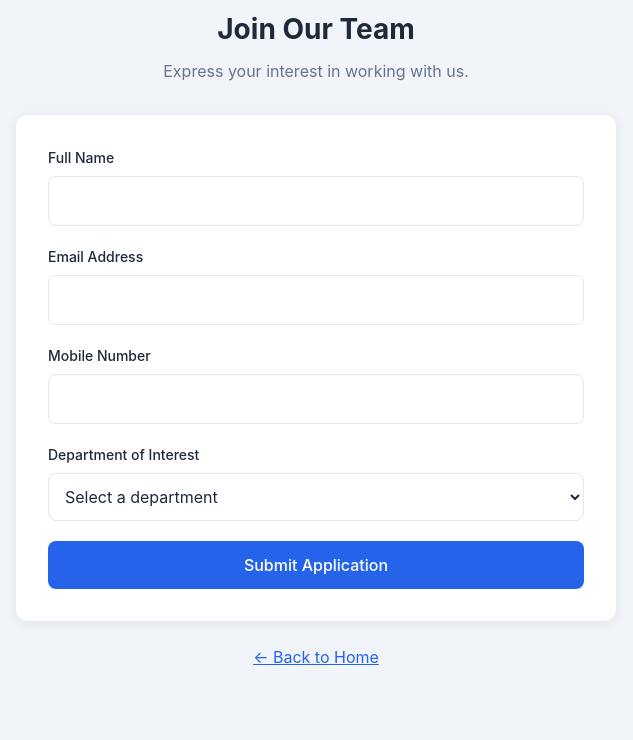
Test: Apply › persists a complete normalized record, clears fields, and removes old validation errors
The image size is (633, 740).
Click the button "Submit Application" at {"x": 316, "y": 565}, box left=48, top=541, right=584, bottom=589
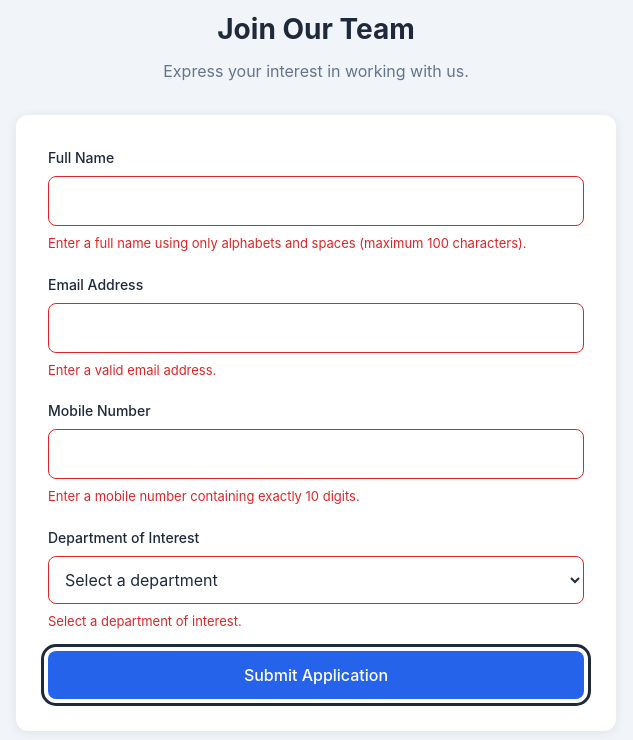
Type " Alice Smith " into the field labelled "Full Name" at {"x": 316, "y": 201}, box left=48, top=176, right=584, bottom=226
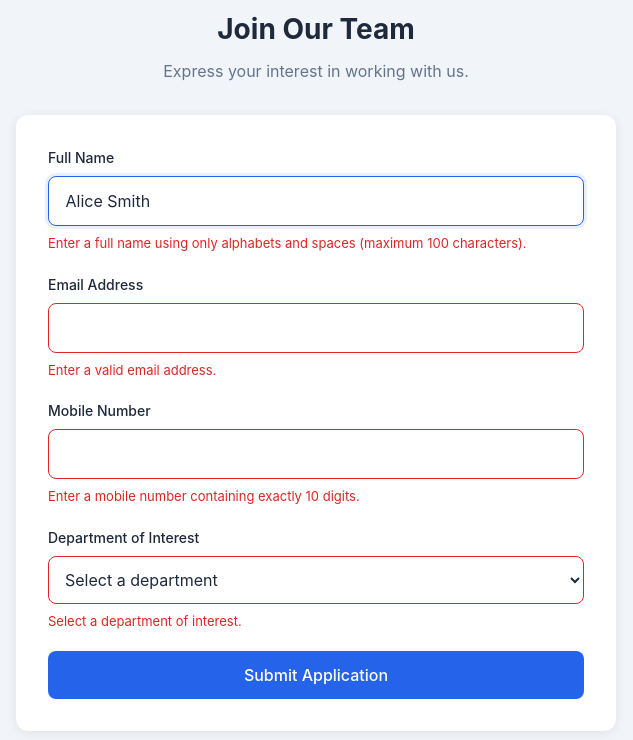
Type " Alice@Example.com " into the field labelled "Email Address" at {"x": 316, "y": 328}, box left=48, top=302, right=584, bottom=352
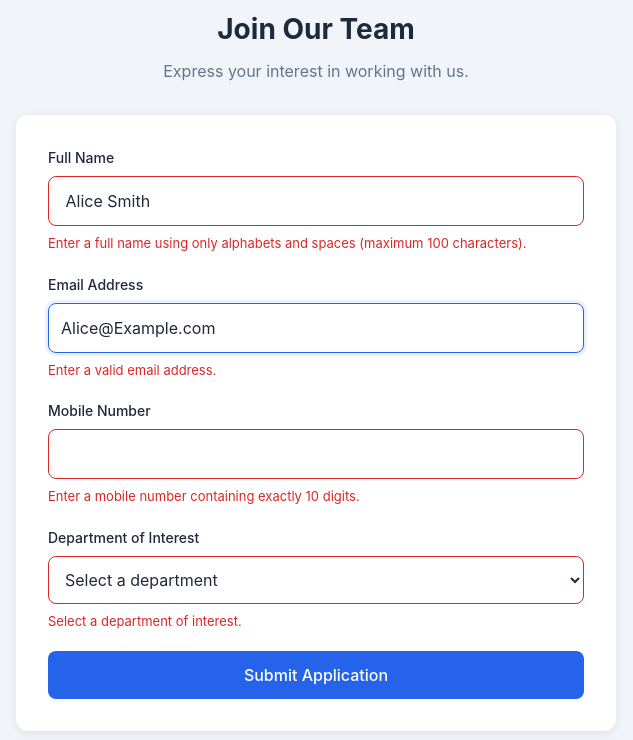
Type "0123456789" into the field labelled "Mobile Number" at {"x": 316, "y": 454}, box left=48, top=429, right=584, bottom=479
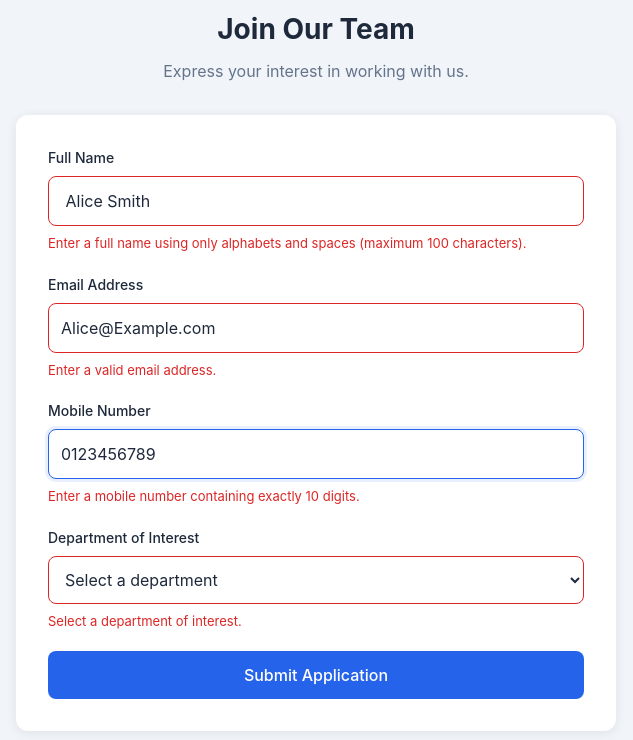
Select "Engineering" in the dropdown labelled "Department of Interest" at {"x": 316, "y": 580}, box left=48, top=556, right=584, bottom=604
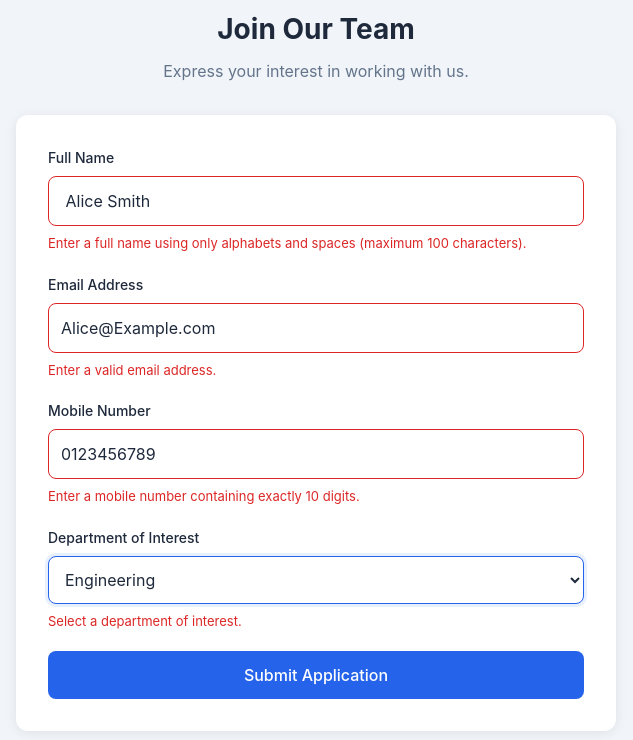
Click the button "Submit Application" at {"x": 316, "y": 675}, box left=48, top=651, right=584, bottom=699
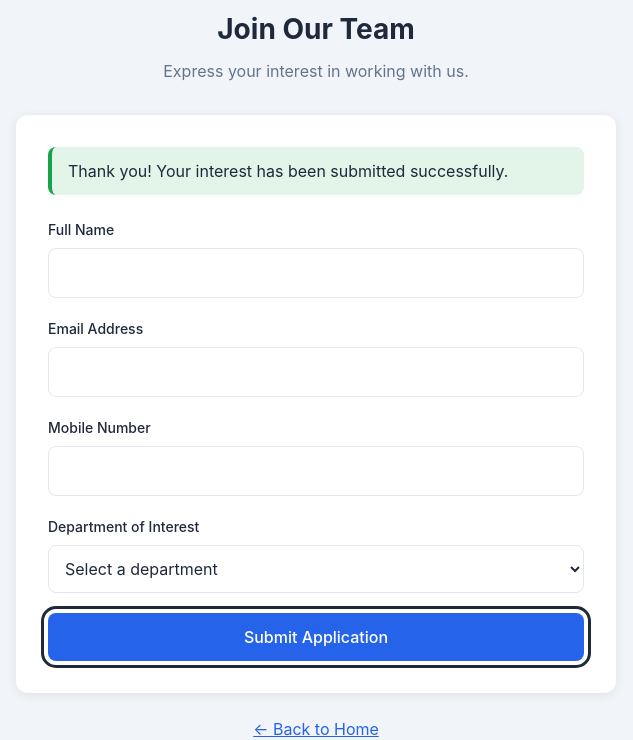
Check: the message reads "Thank you! Your interest has been submitted successfully.", box left=68, top=161, right=508, bottom=181
Check: the field labelled "Full Name" is empty, box left=48, top=248, right=584, bottom=298
Check: the field labelled "Email Address" is empty, box left=48, top=347, right=584, bottom=397
